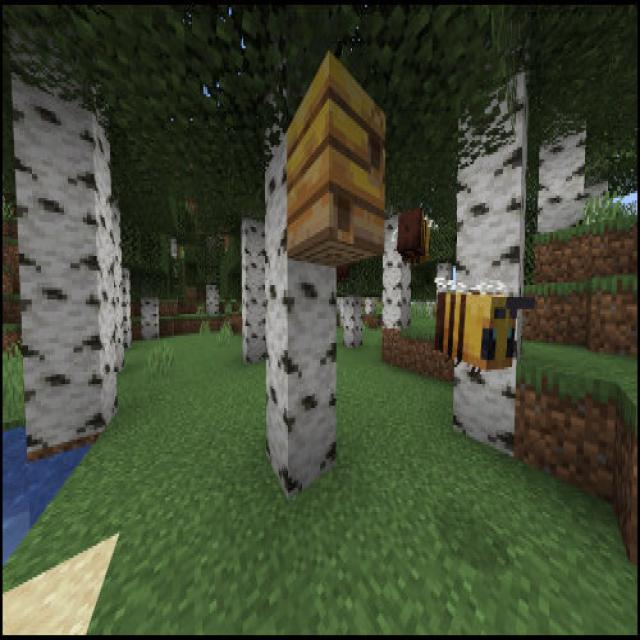Bee: (433, 274, 536, 393), (393, 204, 438, 269)
